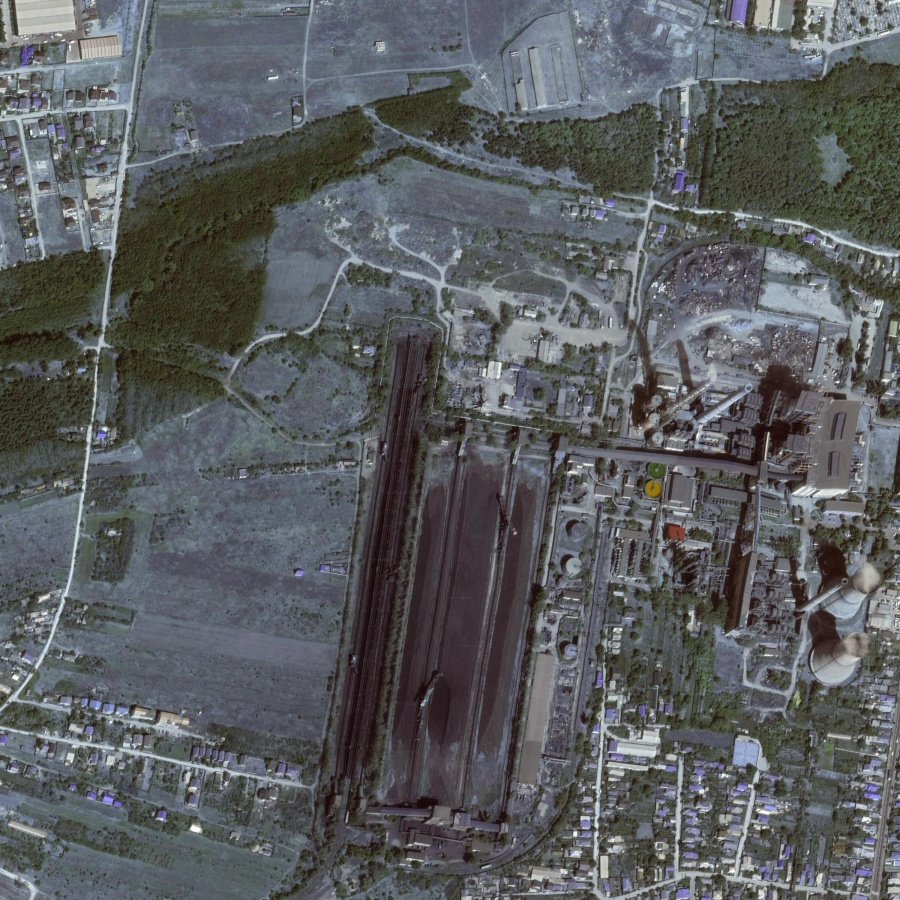PowerPlant: (338, 306, 891, 854)
